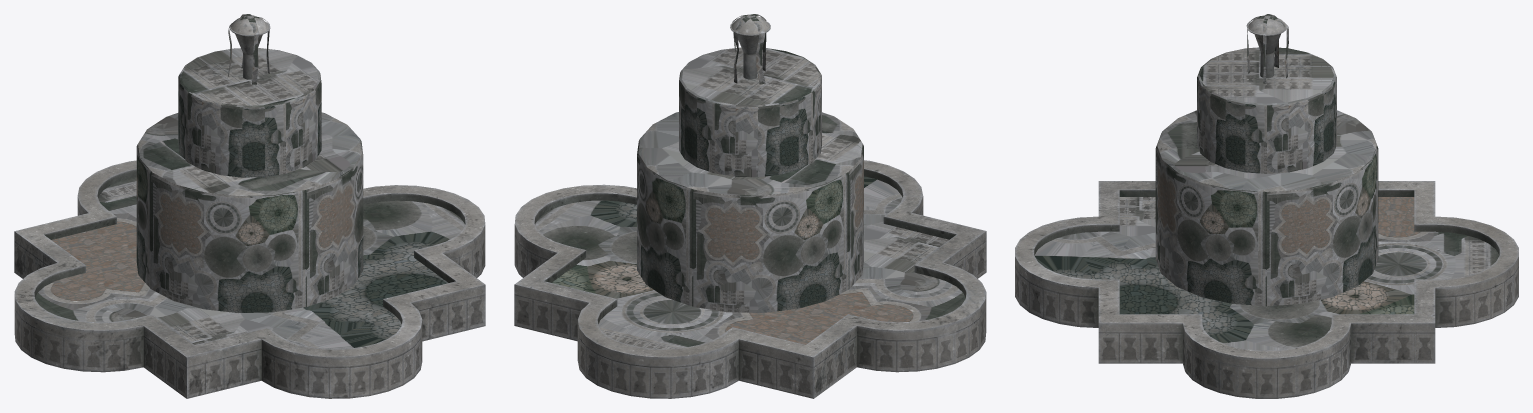
File: sb_obj_outdoor045_Fountain_water.fbx
3 views of the same model, side by side, from view 1: azimuth 30°, elevation 25°; view 2: azimuth 150°, elevation 25°; view 3: azimuth 270°, elevation 25° (orthographic). The views are drawn at different scales.
Parts seen in each view (by area): view 1: sb_obj_outdoor045_Fountain_water; view 2: sb_obj_outdoor045_Fountain_water; view 3: sb_obj_outdoor045_Fountain_water.
Boxes of the visible parts, box(x1,y1,x2,y2) form: sb_obj_outdoor045_Fountain_water: box(14, 14, 485, 398); sb_obj_outdoor045_Fountain_water: box(514, 14, 986, 398); sb_obj_outdoor045_Fountain_water: box(1015, 14, 1518, 398).
Bounding box in the file's own units: 3.59 × 2.17 × 3.59.
